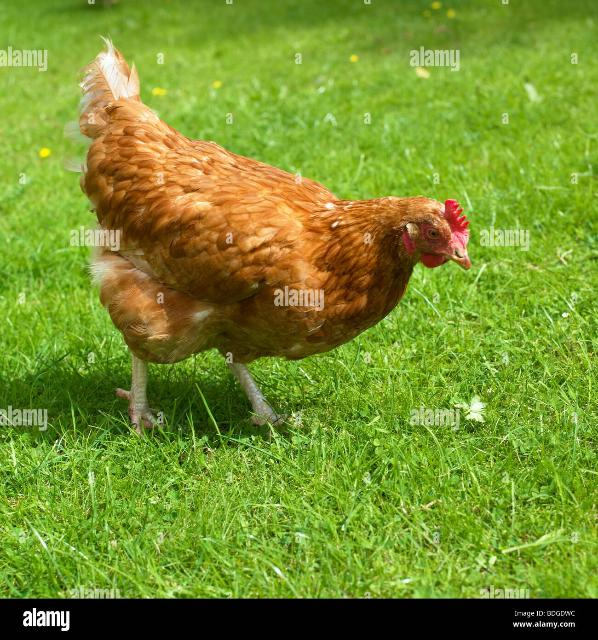Chicken: (81, 39, 475, 427)
